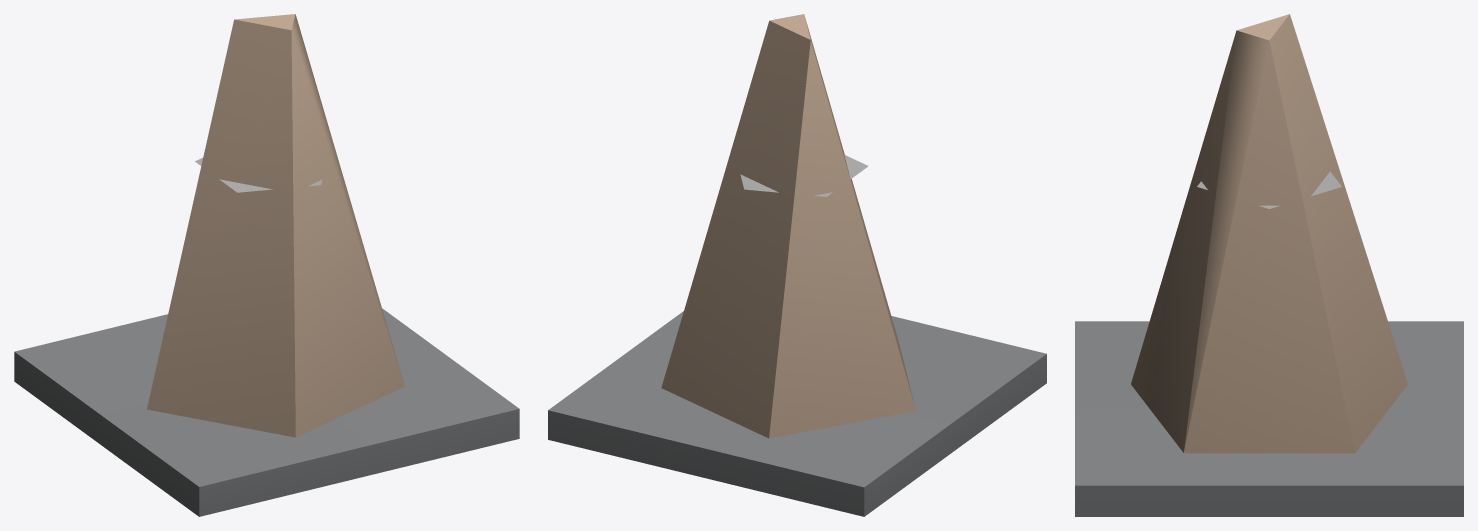
3 views of the same model, side by side, from view 1: azimuth 30°, elevation 25°; view 2: azimuth 150°, elevation 25°; view 3: azimuth 270°, elevation 25° (orthographic). The views are drawn at different scales.
Bounding box in the file's own units: 0.56 × 0.65 × 0.56.
